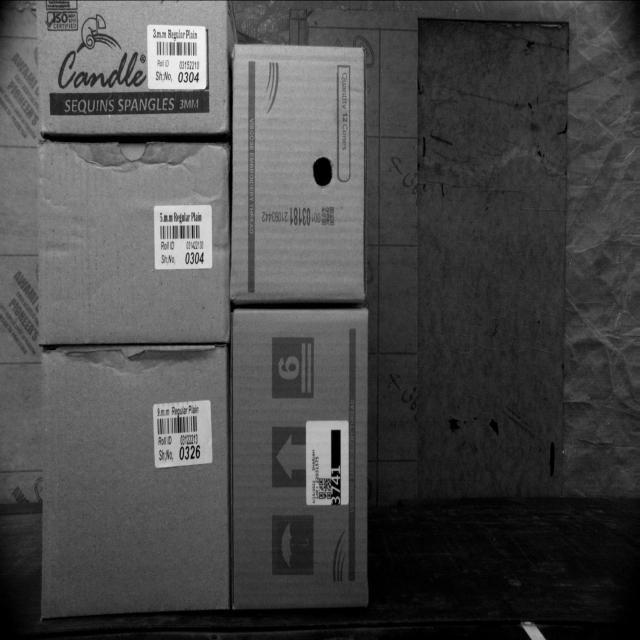cardboxes: (39, 347, 230, 618), (234, 309, 369, 614), (38, 143, 230, 344), (227, 46, 367, 305), (36, 0, 228, 134)
